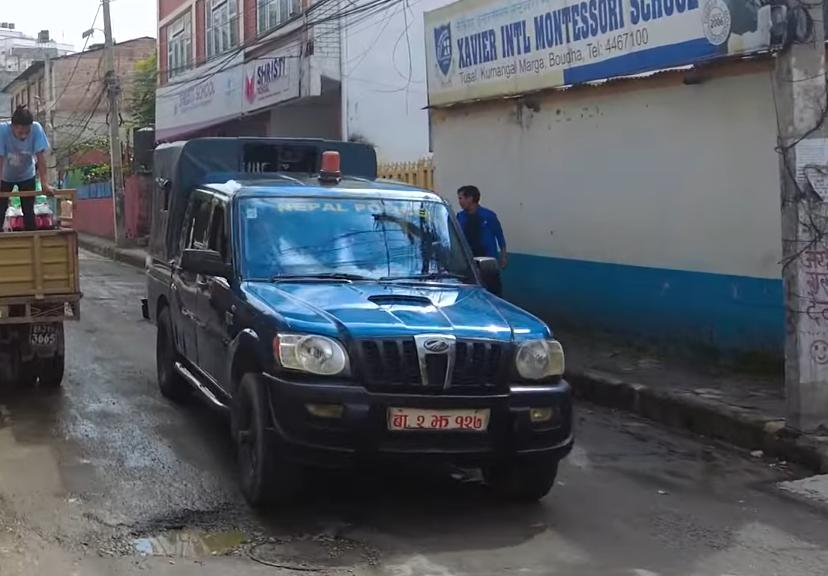police_vehicle: (136, 124, 578, 529)
